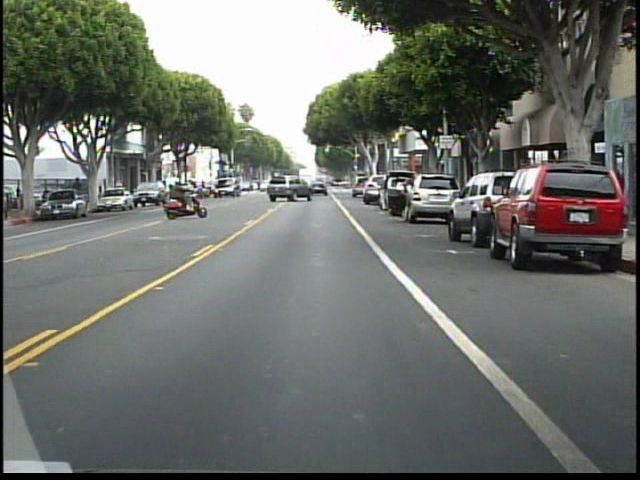person: (160, 177, 187, 215), (71, 173, 88, 210)
